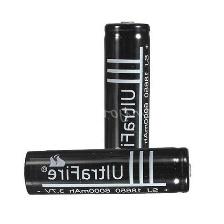battery: (19, 143, 194, 200), (103, 15, 153, 186)
